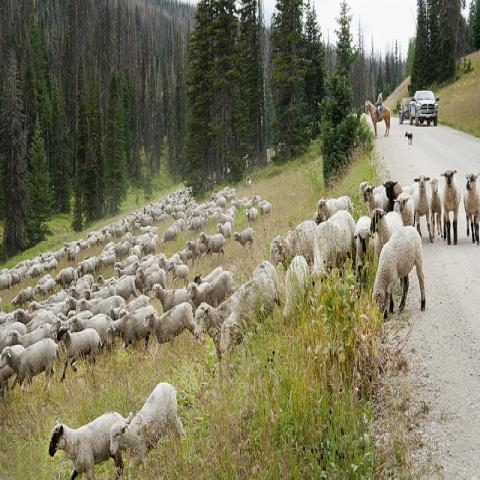truck: (408, 90, 440, 126), (399, 97, 412, 124)
